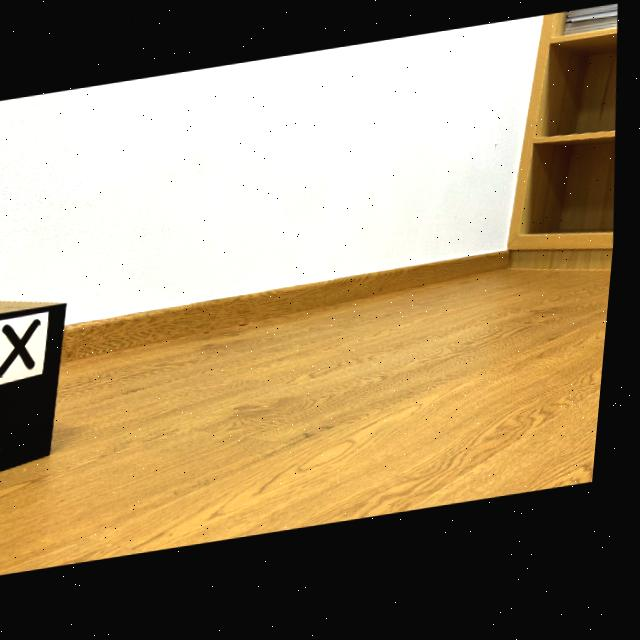X: (4, 320, 45, 377)
